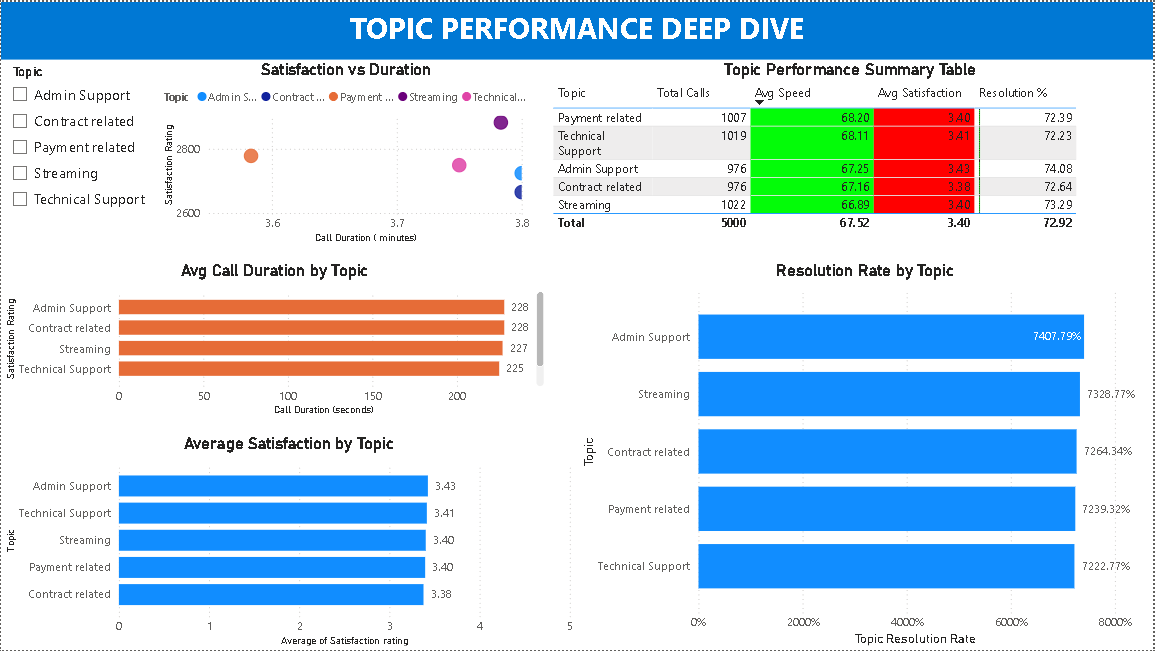

What the dashboard file says about the page in this screenshot:
{"tool":"powerbi","page":{"name":"Page 2 - Topic Analysis","canvas":[1280,720],"ordinal":1},"visuals":[{"type":"barChart","title":"Average Satisfaction by Topic","fields":{"Category":["CallLog.Topic"],"Y":["Avg(CallLog.Satisfaction rating)"]},"box":[0,480,640,240],"z":0},{"type":"textbox","box":[0,0,1280,64],"z":1000},{"type":"slicer","fields":{"Values":["CallLog.Topic"]},"box":[0,64,208,176],"z":2000},{"type":"barChart","title":"Resolution Rate by Topic","fields":{"Category":["CallLog.Topic"],"Y":["CallLog.Topic Resolution Rate"]},"box":[640,288,640,432],"z":3000},{"type":"scatterChart","title":"Satisfaction vs Duration","fields":{"Y":["Sum(CallLog.Satisfaction rating)"],"Series":["CallLog.Topic"],"X":["CallLog.Avg Talk Duration (Min)"]},"box":[176,64,416,208],"z":4000},{"type":"tableEx","title":"Topic Performance Summary Table","fields":{"Values":["CallLog.Topic","CallLog.Call Id","Avg(CallLog.Speed of answer in seconds)","Avg(CallLog.Satisfaction rating)","CallLog.Topic Resolution Rate"]},"box":[608,64,672,208],"z":5000},{"type":"clusteredBarChart","title":"Avg Call Duration by Topic","fields":{"Category":["CallLog.Topic"],"Y":["CallLog.Avg Talk Duration (Sec)"]},"box":[0,288,608,176],"z":6000}]}

Visuals, with their boxes in screenshot pixels (x1, y1, x2, y2), scaled from the page's 1280x720 canvas onto the 1156x651 screenshot:
"Average Satisfaction by Topic" barChart: [left=0, top=434, right=578, bottom=650]
textbox: [left=0, top=0, right=1155, bottom=58]
slicer - CallLog.Topic: [left=0, top=58, right=188, bottom=217]
"Resolution Rate by Topic" barChart: [left=578, top=260, right=1155, bottom=650]
"Satisfaction vs Duration" scatterChart: [left=159, top=58, right=535, bottom=246]
"Topic Performance Summary Table" tableEx: [left=549, top=58, right=1155, bottom=246]
"Avg Call Duration by Topic" clusteredBarChart: [left=0, top=260, right=549, bottom=420]
